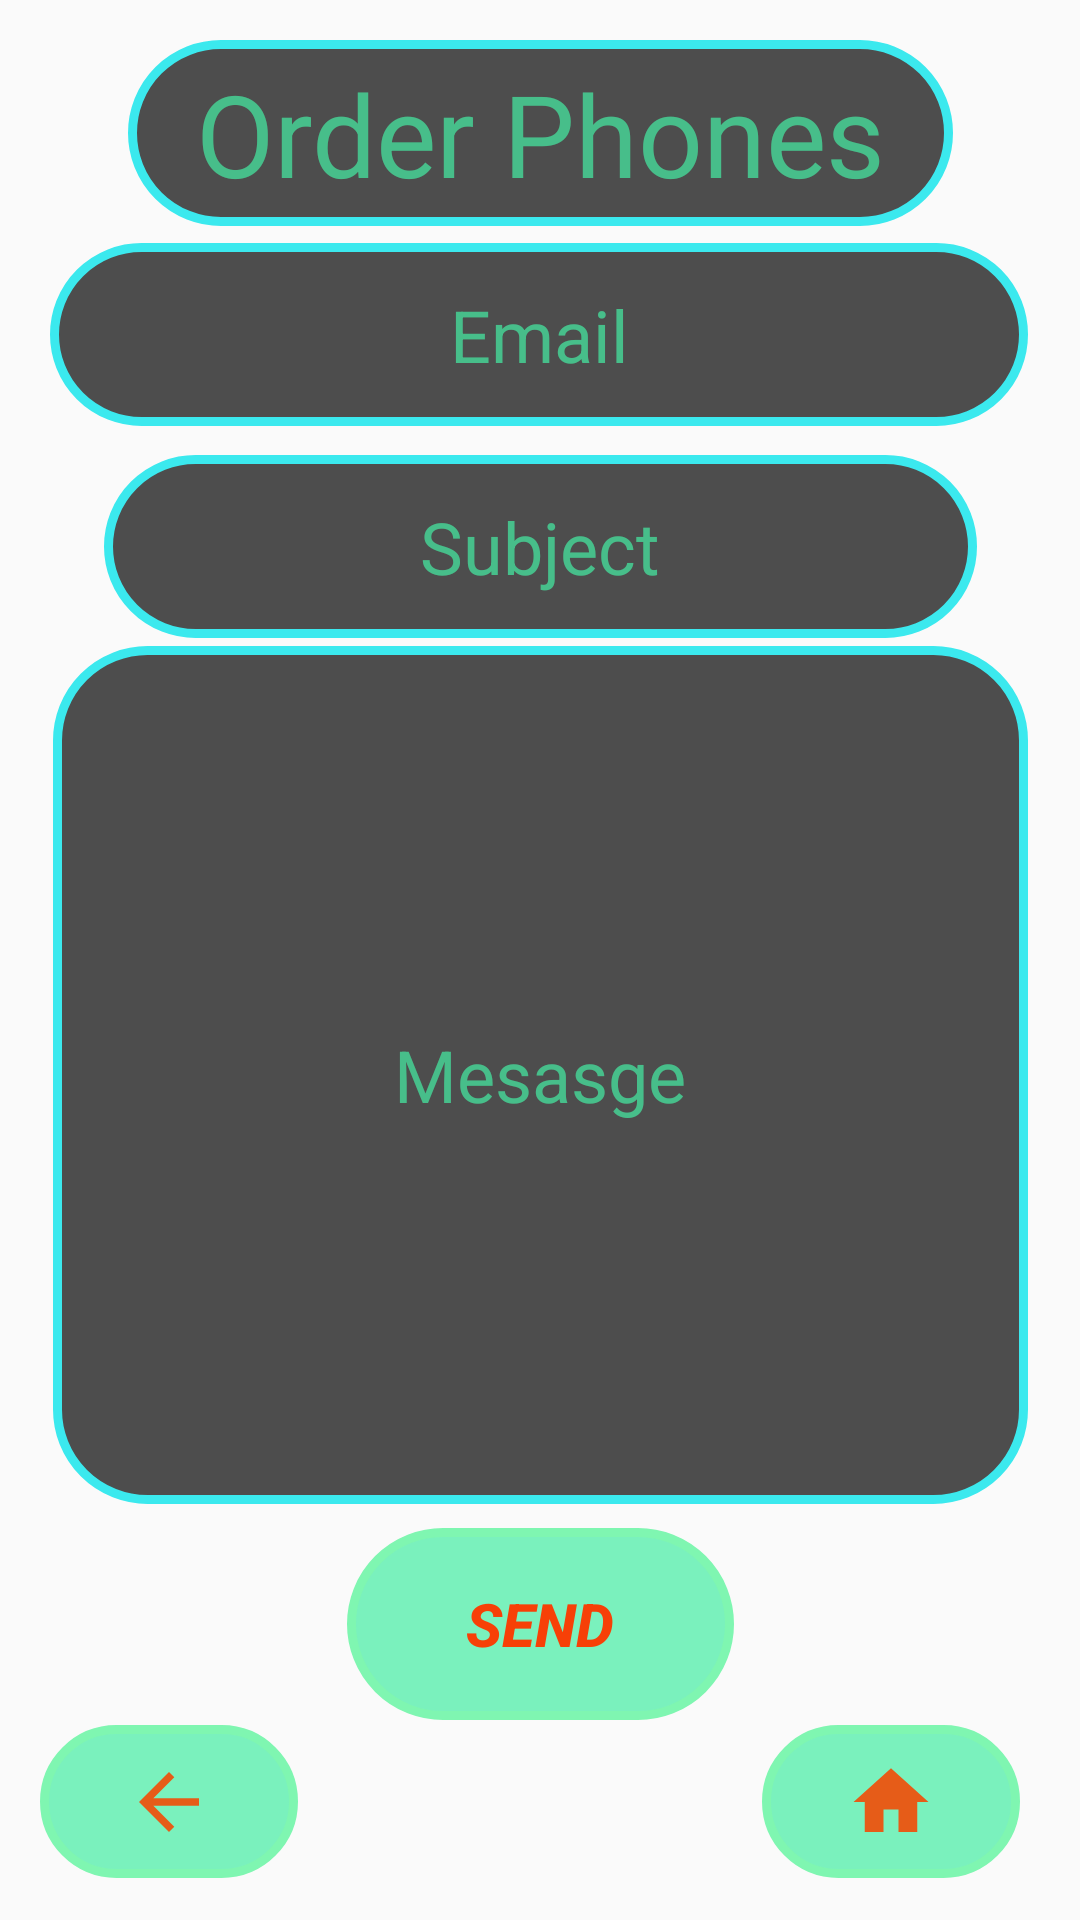

Named icons in this screenshot (1080 × 1920) and their centers, (x=x, y=y):
arrow back: (x=169, y=1801)
home: (x=891, y=1801)
